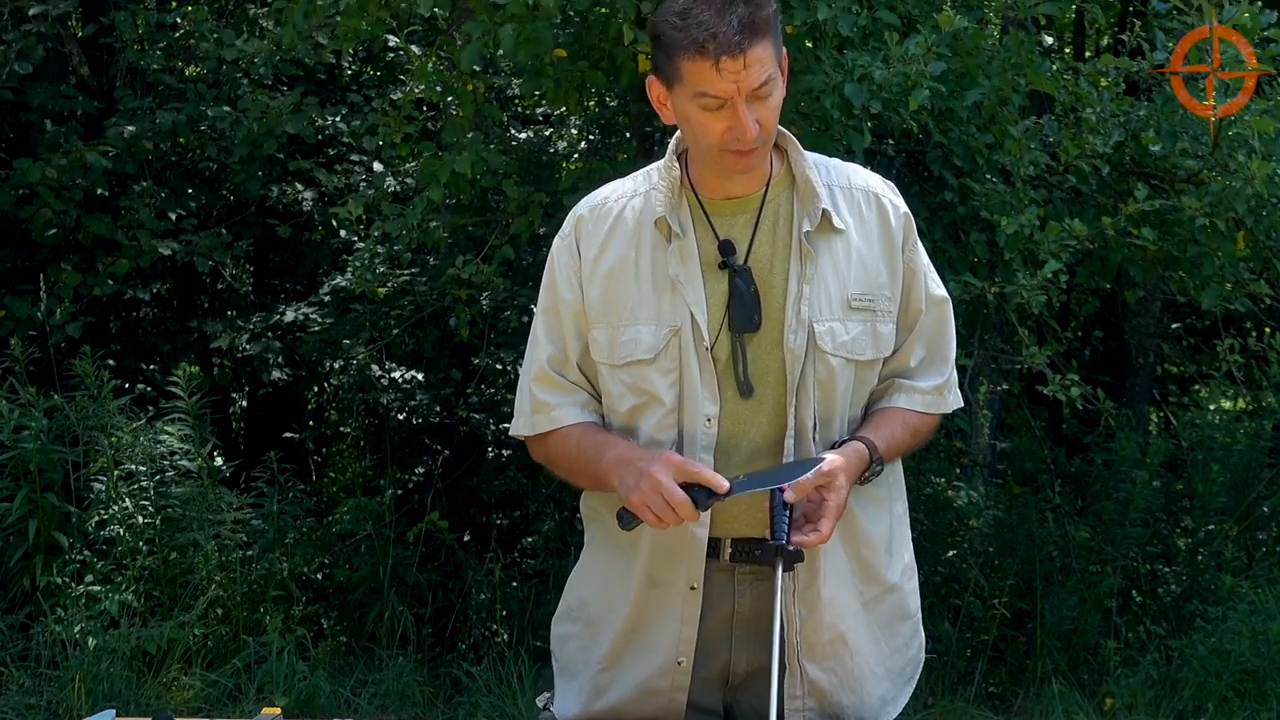knife: (612, 435, 830, 537)
